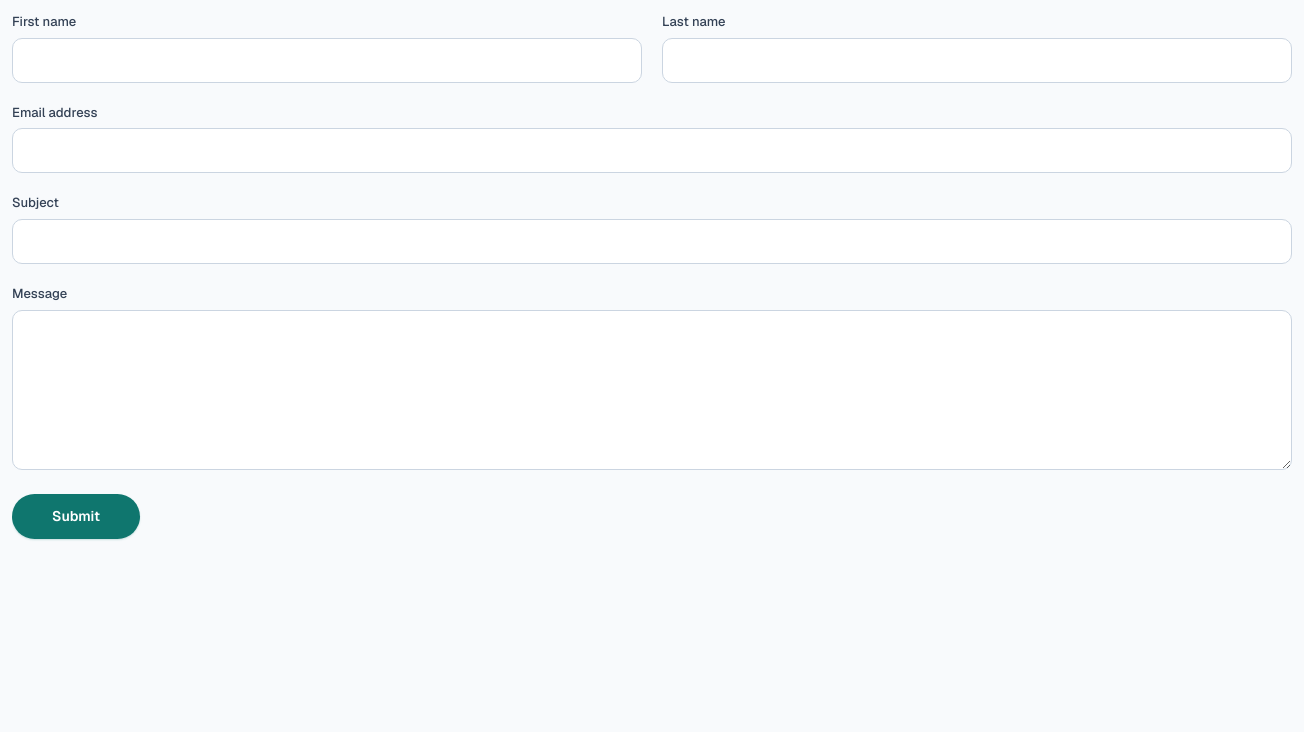
Test: ContactForm › shows an error when required fields are empty
Click the button "Submit" at (76, 516), box [12, 494, 140, 539]
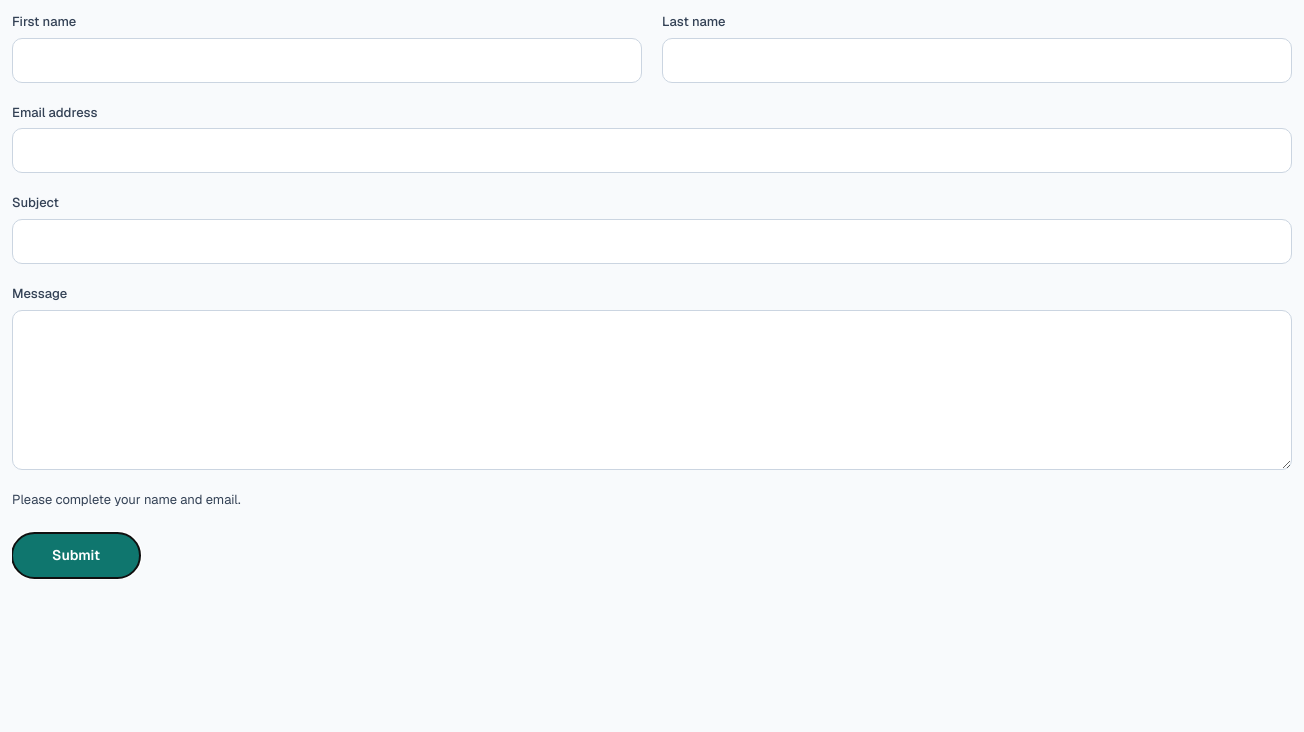
Result: the message shows "Please complete your name and email" at [12, 491, 241, 508]
